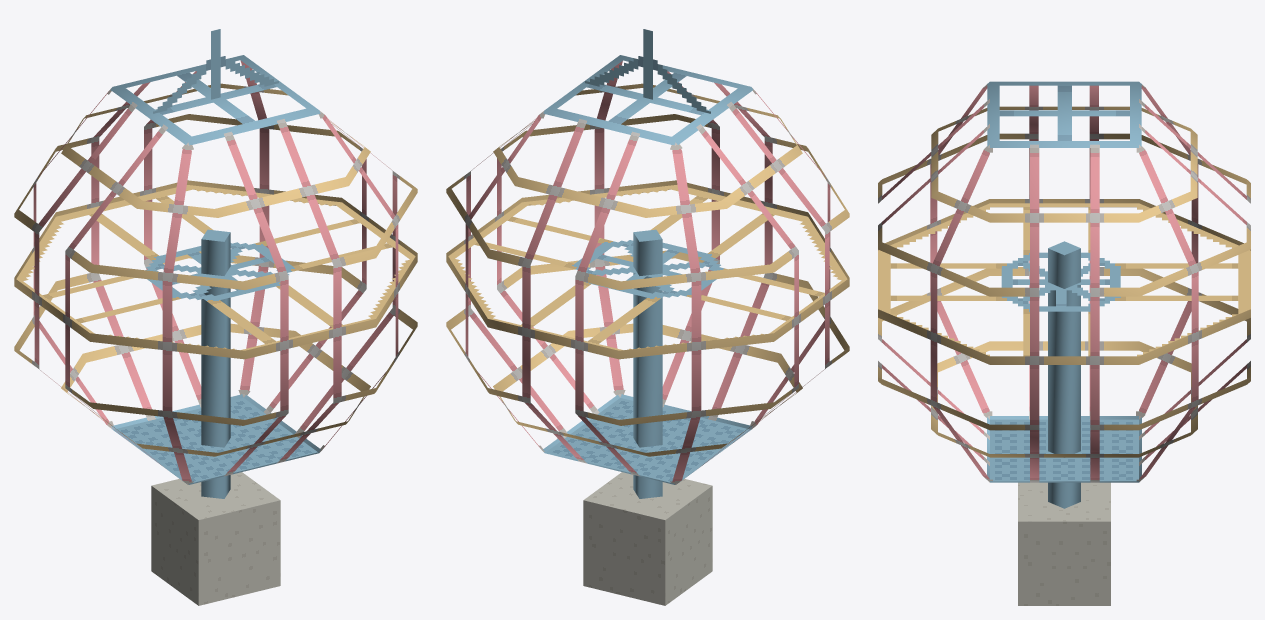
File: 013e_Globe_Jungle_Gym.glb
3 renders of one model, left to right at view 1: azimuth 30°, elevation 25°; view 2: azimuth 150°, elevation 25°; view 3: azimuth 270°, elevation 25°, orthographic.
Parts seen in each view (by area): view 1: part_0; view 2: part_0; view 3: part_0.
Boxes of the visible parts, x1,y1,x2,y2 form: part_0: (14, 29, 417, 605); part_0: (446, 29, 849, 605); part_0: (878, 81, 1250, 605).
Size of the model in its own units: 2 by 3.2 by 2.
1 material, 1 textured.
